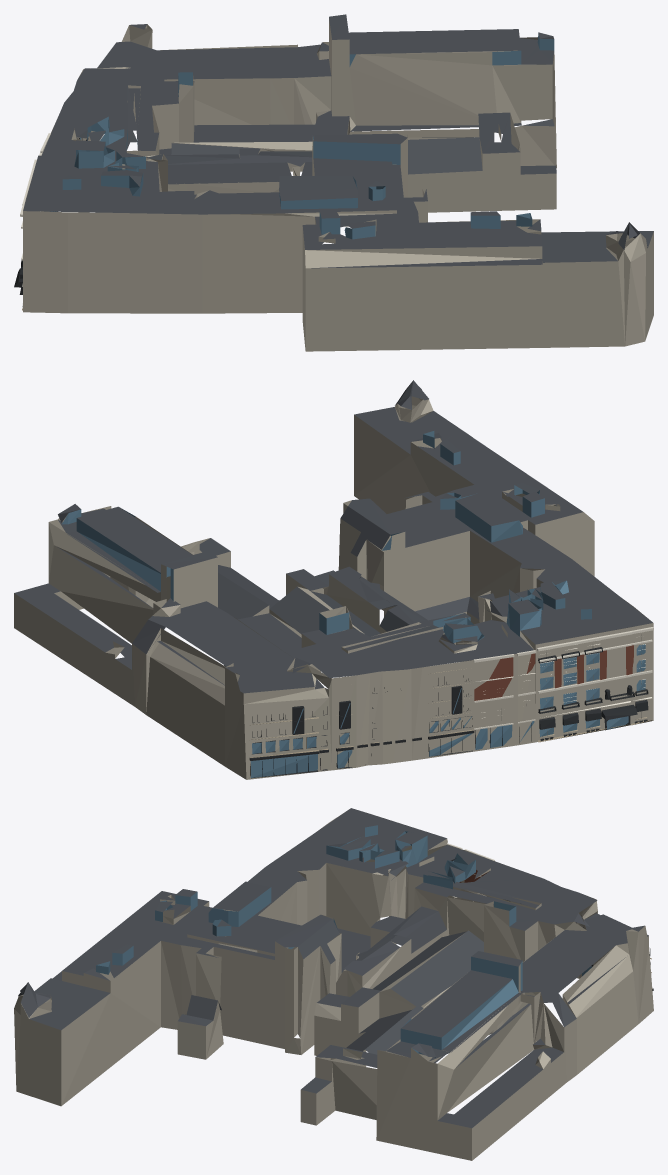
Rendered from krasnapolsky.lod1.glb.
The picture shows the model from 3 angles, top to bottom: view 1: azimuth 30°, elevation 25°; view 2: azimuth 150°, elevation 25°; view 3: azimuth 270°, elevation 25°; orthographic projection. The views are drawn at different scales.
Parts seen in each view (by area): view 1: krasnapolsky; view 2: krasnapolsky; view 3: krasnapolsky.
Part boxes in pixels (x1,y1,x2,y2): krasnapolsky: (14,14,653,351); krasnapolsky: (14,380,653,779); krasnapolsky: (14,808,653,1160).
Bounding box in the file's own units: 134 × 27.55 × 138.
